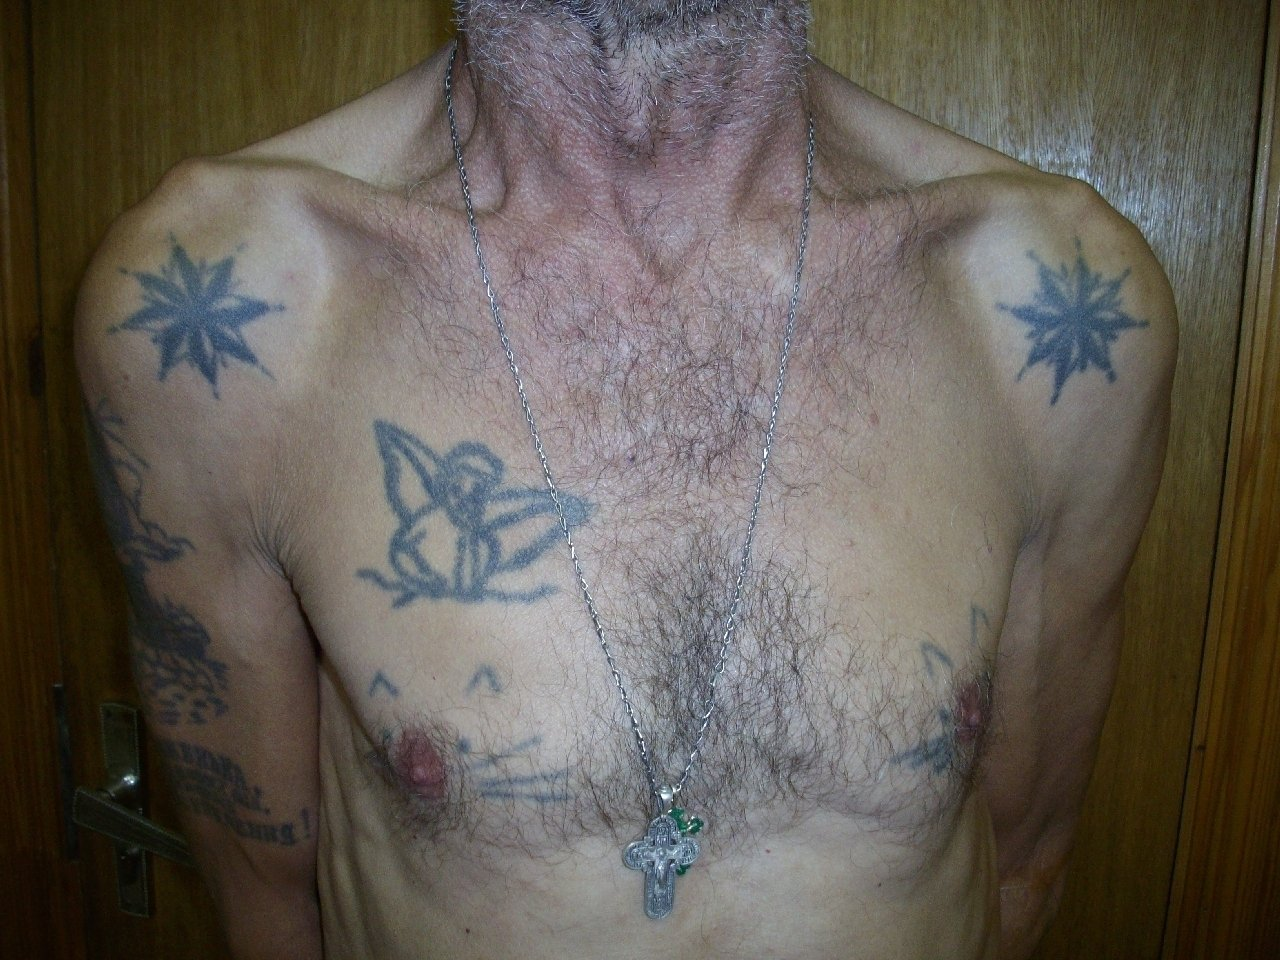tatu1_angel: (351, 396, 592, 647)
tatu4_zvezda: (97, 221, 297, 397), (978, 227, 1151, 399)
tatu8_kot: (350, 655, 597, 855), (887, 604, 1008, 810)
